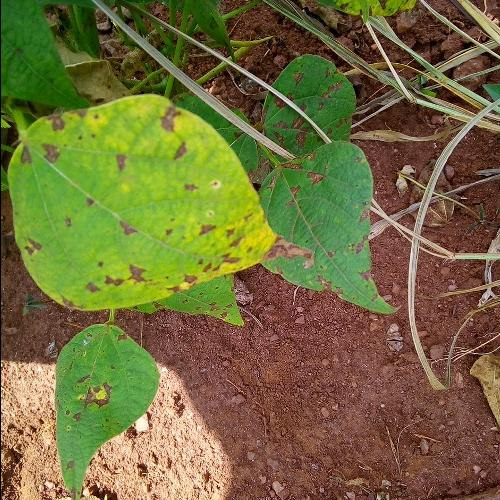embun tepung: (248, 156, 394, 312)
hawar: (36, 336, 162, 462), (266, 57, 352, 154)
mozaik: (23, 90, 255, 318)
